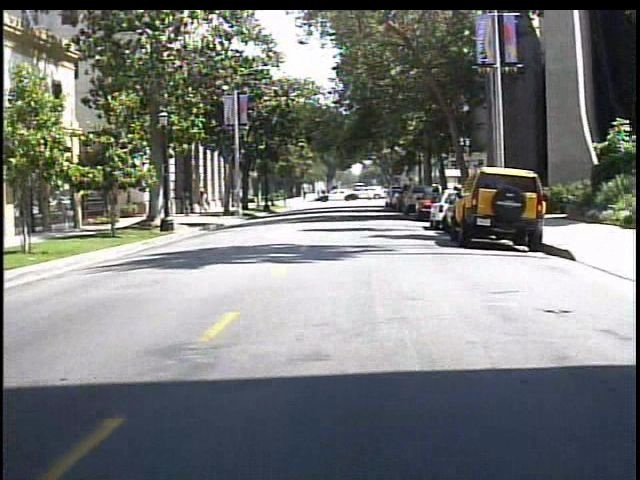person: (197, 188, 218, 220), (177, 186, 194, 220)
